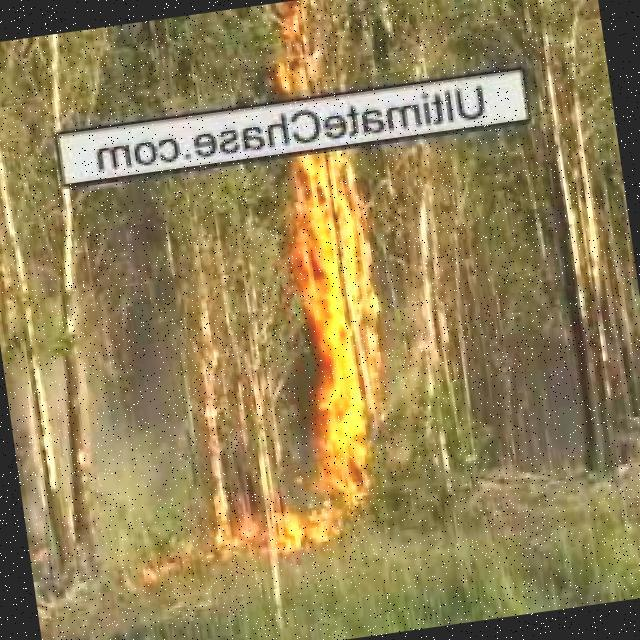Fire: (286, 156, 385, 418), (251, 420, 393, 555), (271, 12, 326, 95)
